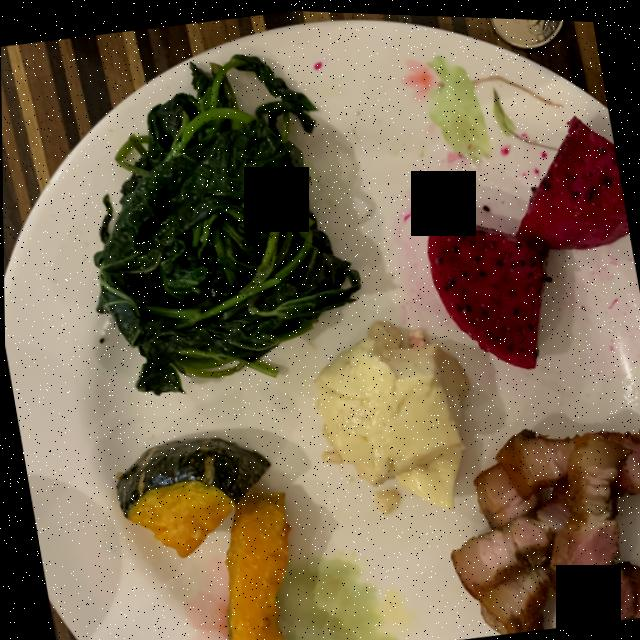coin: (491, 14, 564, 44)
grilled pork: (450, 425, 640, 631)
pumpkin: (115, 436, 289, 640)
sweet potato leaves: (93, 52, 359, 393)
